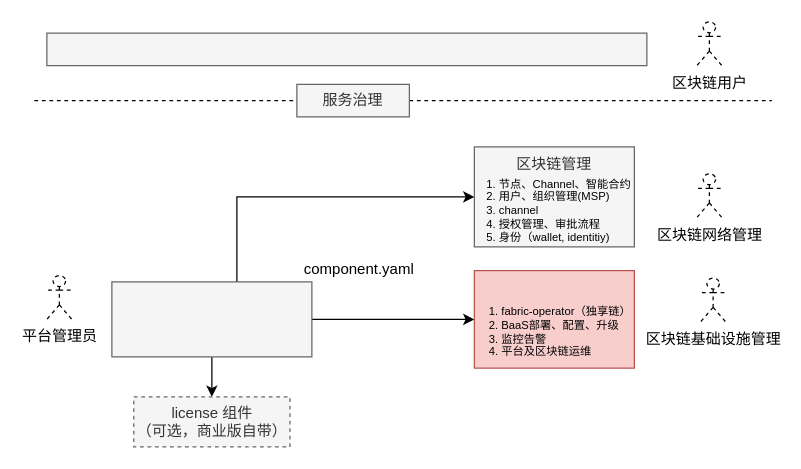
Image size: 801x469. Some labels were removed from this diagram. Here are the shapes that lost their labels. From the top down, the box of each, then its label:
(46, 32, 647, 66): 示例应用
(111, 281, 312, 357): u4a-system （提供统一的用户、组、权限RBAC等管理能力）
(473, 269, 634, 368): 网络部署运维
